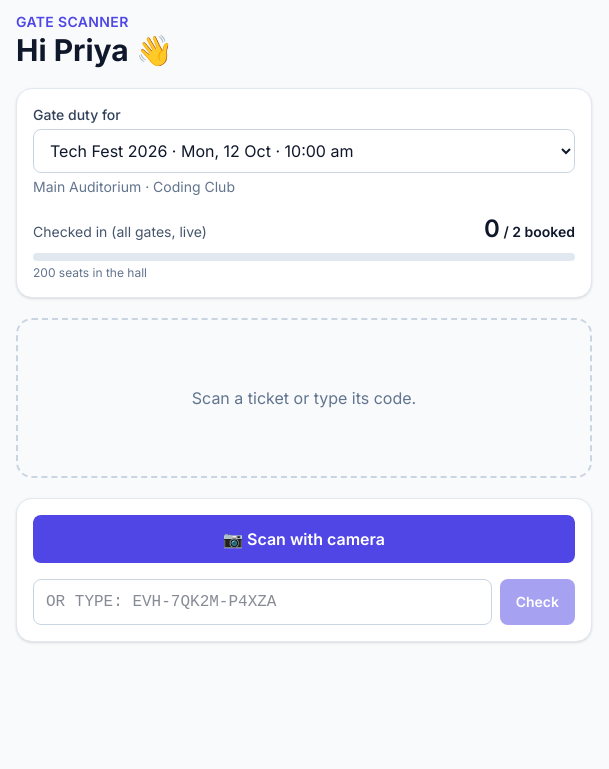
Test: ScannerPage › shows LET IN, then ALREADY USED for the same ticket, and lists both scans
Expected: the heading "Hi Priya 👋" is shown, [16, 32, 173, 68]
In the field with placeholder "or type: EVH-7QK2M-P4XZA": (262, 602) [33, 579, 492, 625], type "EVH-1"
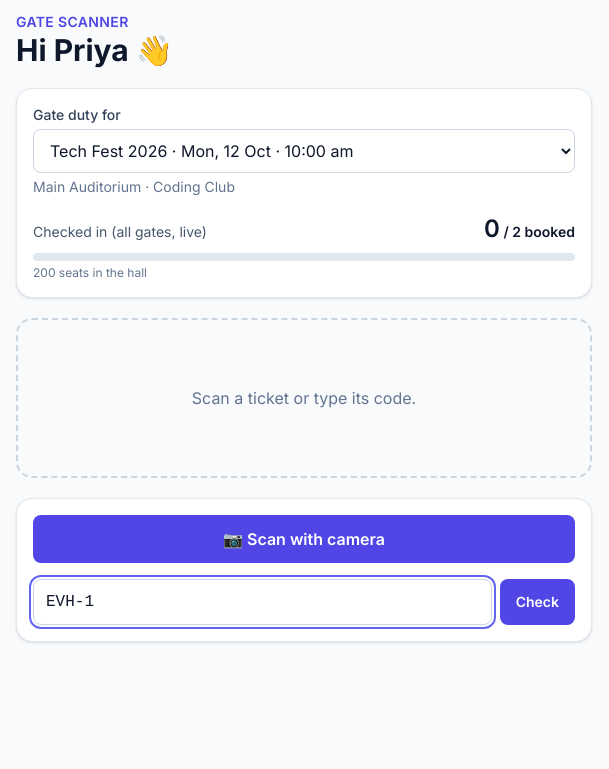
Click the button "Check": (537, 602) [500, 579, 575, 625]
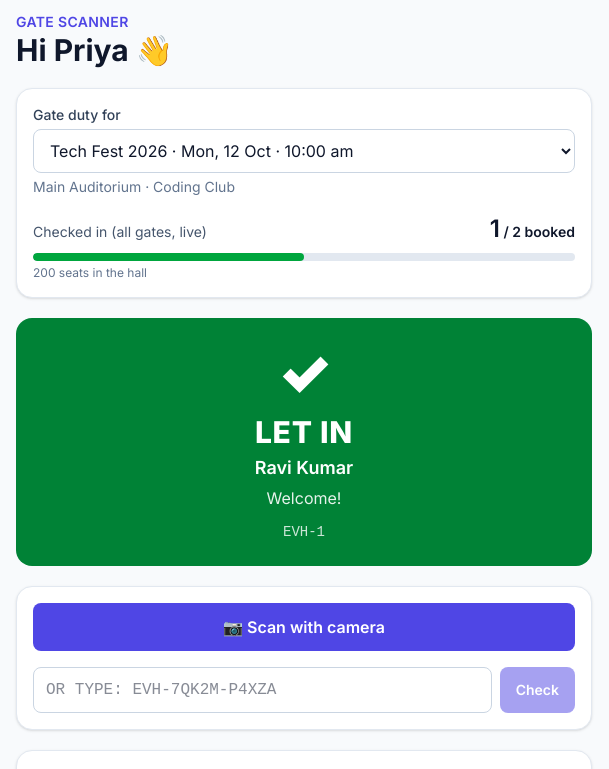
Expected: the message shows "Let in", [255, 414, 353, 450]
Expected: the text "1" is shown, [490, 214, 500, 243]
In the field with placeholder "or type: EVH-7QK2M-P4XZA": (262, 690) [33, 667, 492, 713], type "EVH-1"
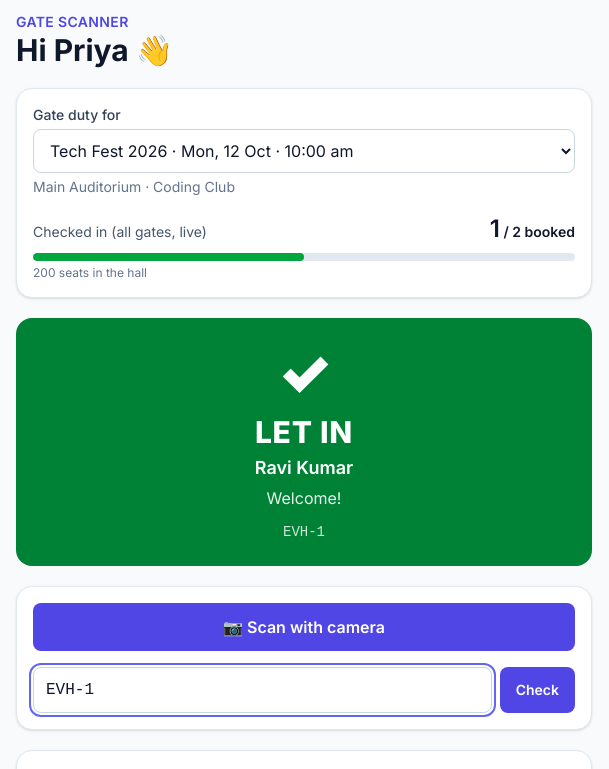
Click the button "Check": (537, 690) [500, 667, 575, 713]
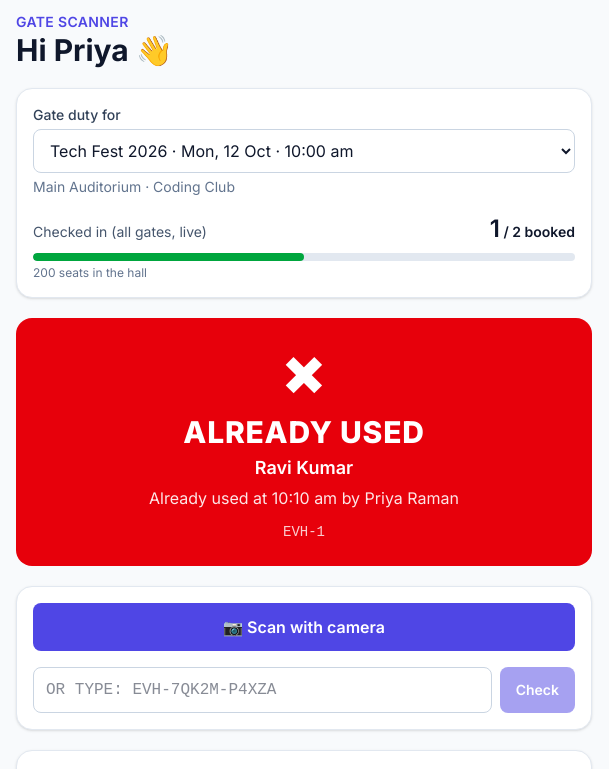
Expected: the message shows "Already used", [183, 414, 425, 450]
